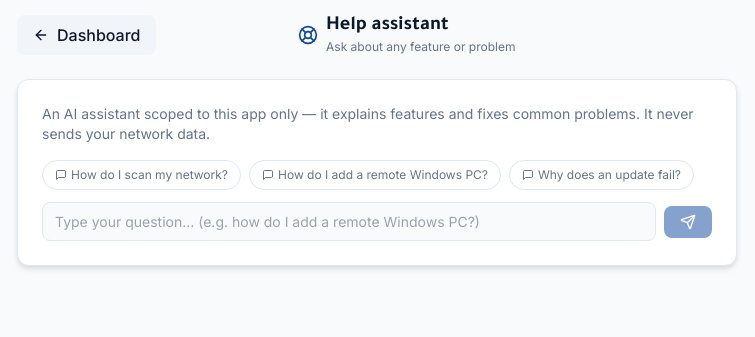
Test case: SupportPage › an example chip sends its preset question
Click the button "How do I scan my network?".
click(142, 175)  # box [42,160,241,190]
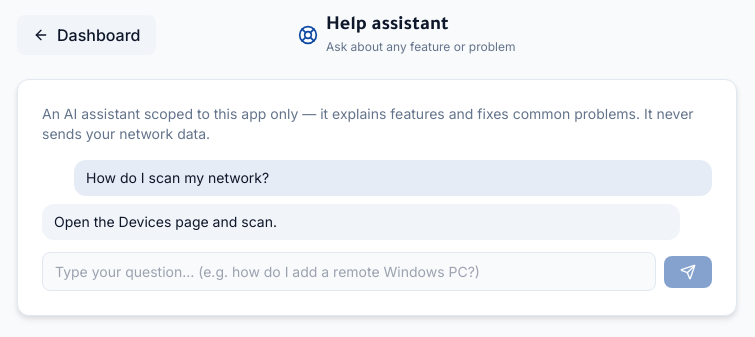
Expected: the text "Open the Devices page and scan." is shown, [42,204,680,240]
